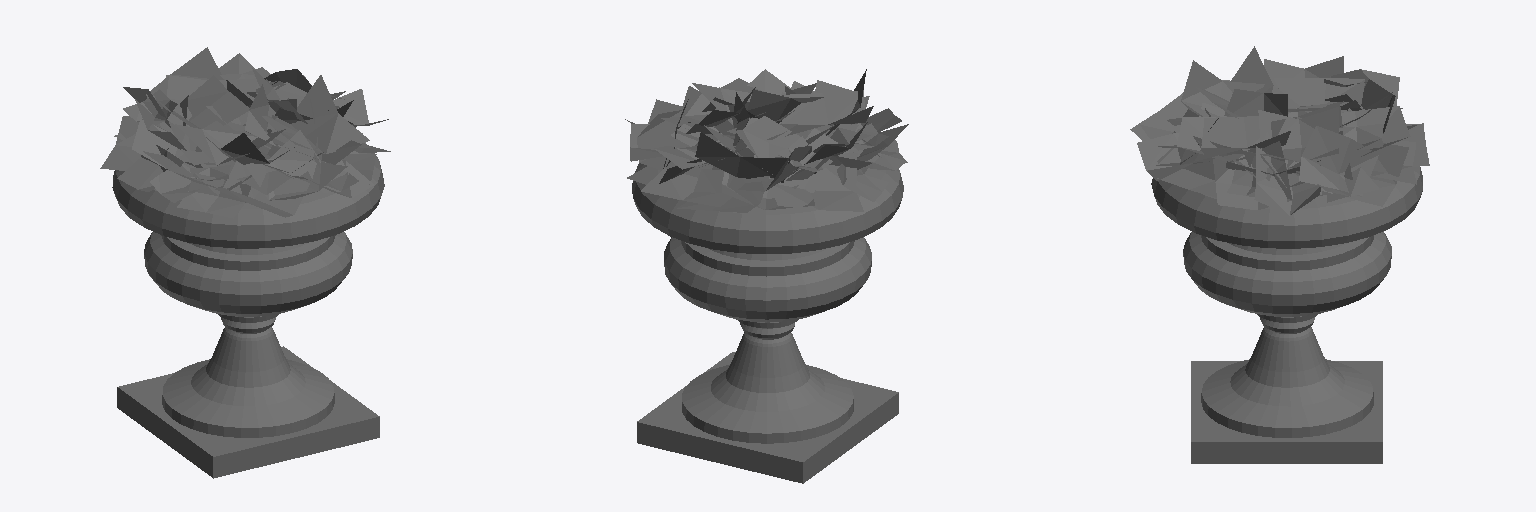
The model's file is crytekSmall.obj.
3 renders of one model, left to right at view 1: azimuth 30°, elevation 25°; view 2: azimuth 150°, elevation 25°; view 3: azimuth 270°, elevation 25°, orthographic.
Visible parts, largest first — view 1: sponza_369; view 2: sponza_369; view 3: sponza_369.
Part boxes in pixels (bbox=[...]): sponza_369: bbox=[100, 47, 390, 478]; sponza_369: bbox=[625, 69, 908, 483]; sponza_369: bbox=[1130, 46, 1429, 463].
Size of the model in its own units: 0.6717 by 0.8601 by 0.6918.